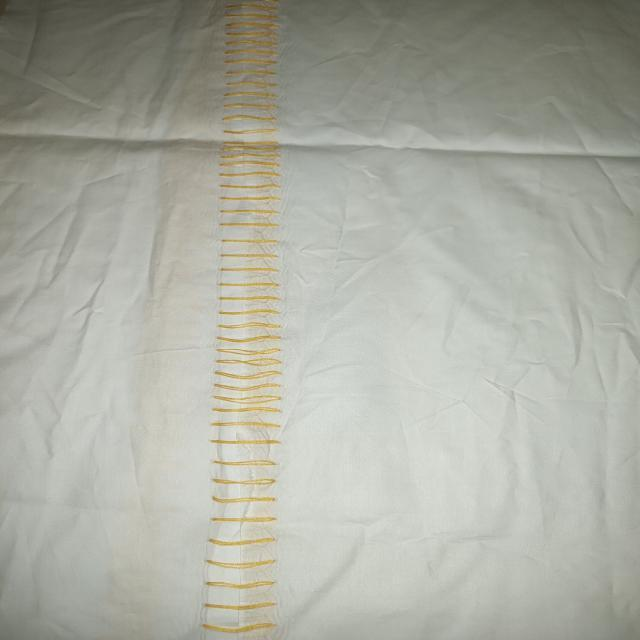Thread_out: (208, 7, 289, 640)
